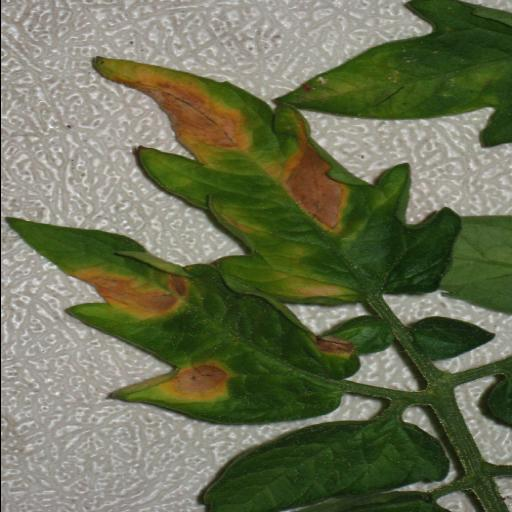Early Blight: (84, 54, 470, 304), (2, 214, 360, 430)
Healthy: (200, 421, 450, 512)
